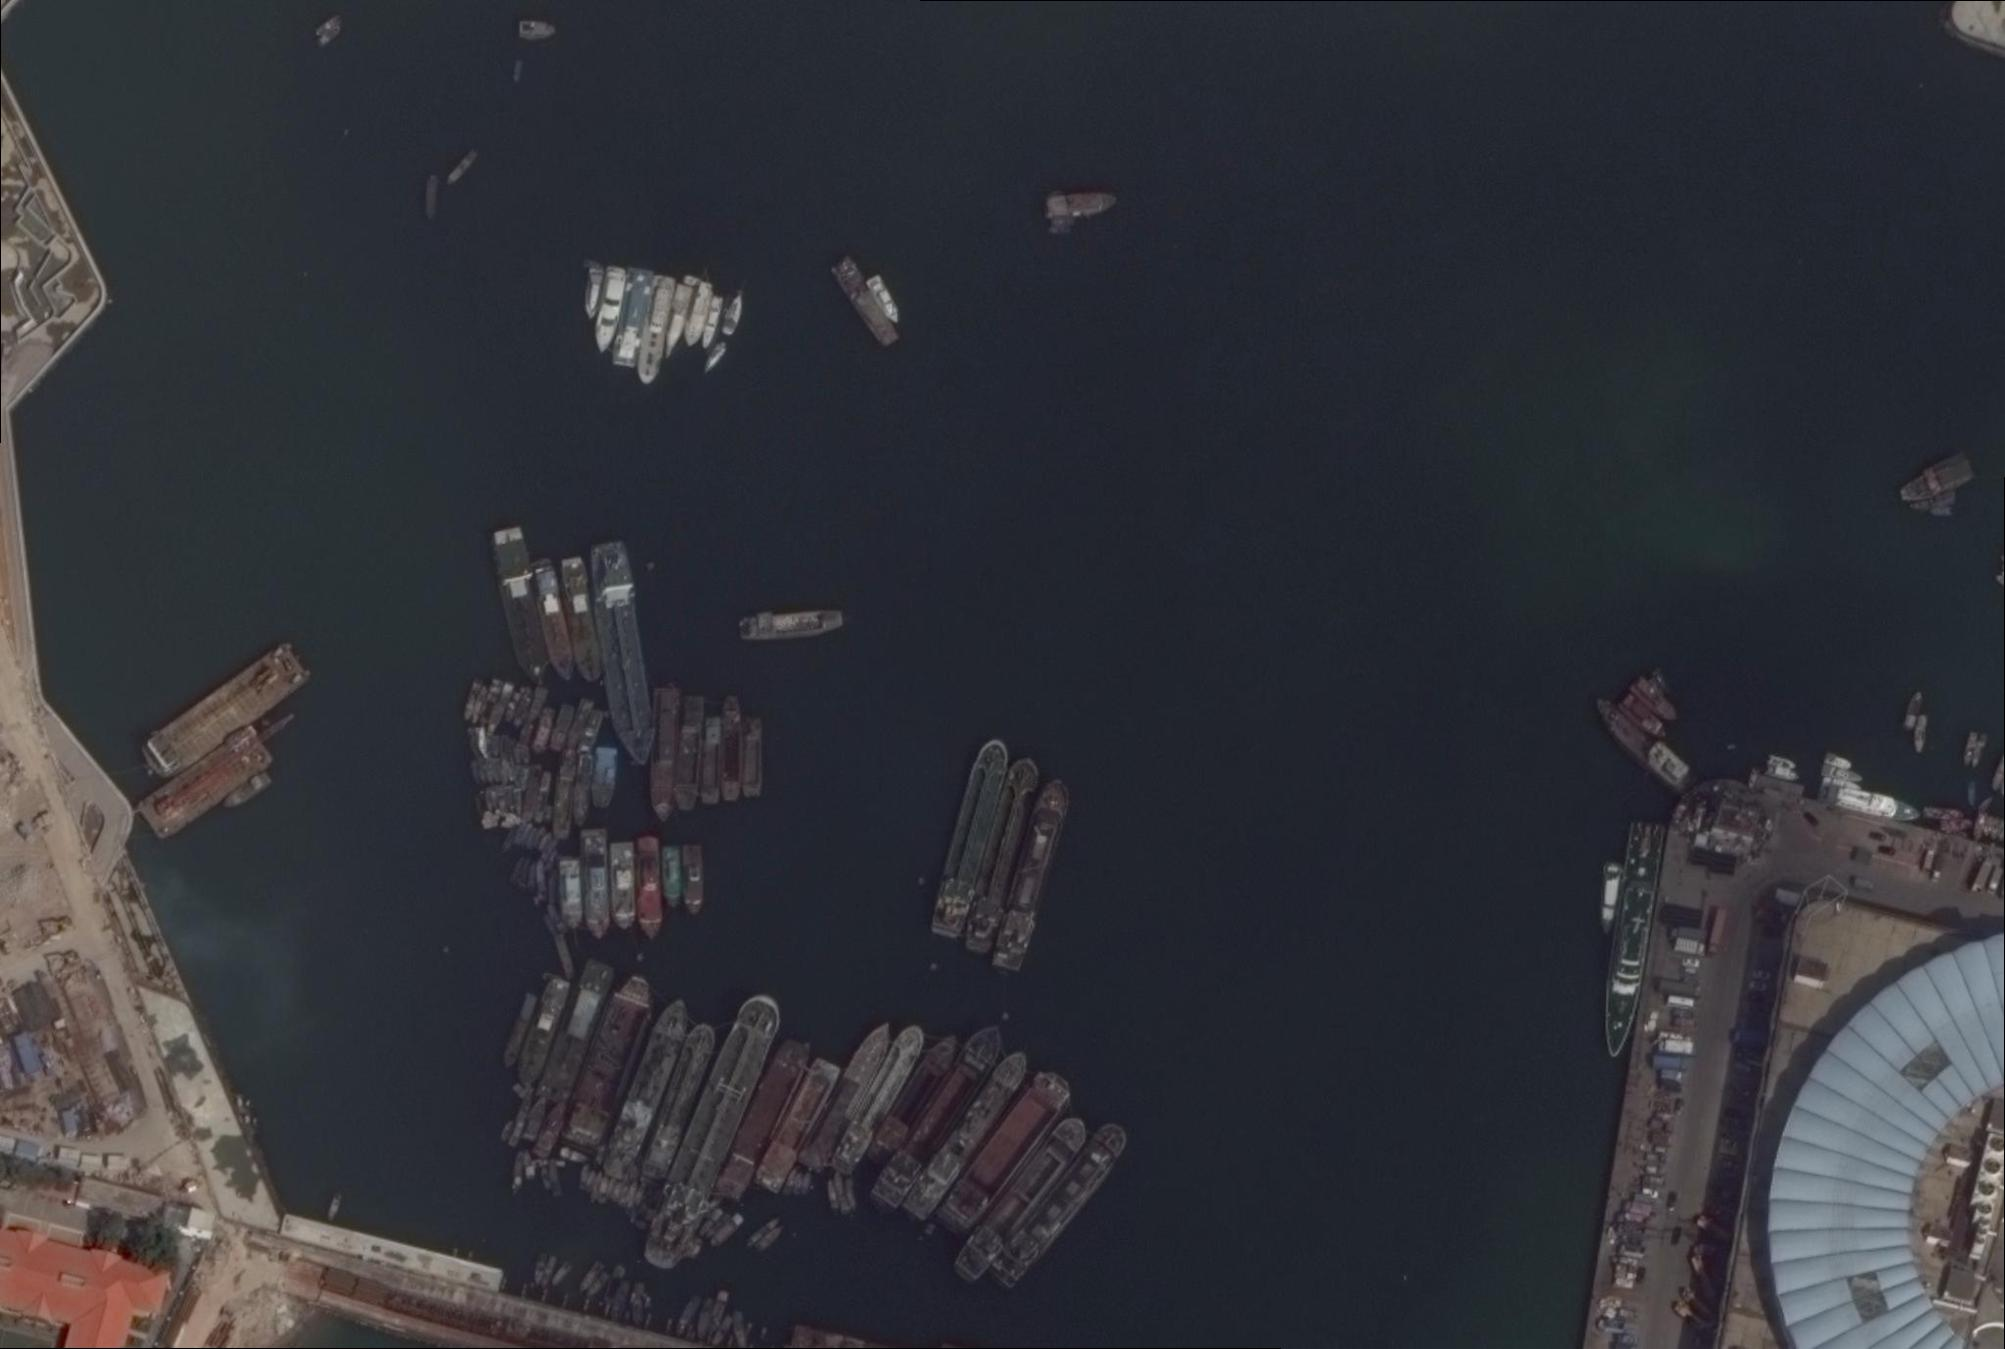ship: (638, 994, 786, 1274), (869, 1022, 1010, 1210), (930, 1064, 1078, 1244), (986, 1120, 1133, 1293), (948, 1110, 1094, 1284), (140, 641, 312, 781), (902, 1046, 1036, 1224), (557, 971, 662, 1159), (599, 995, 695, 1183), (987, 774, 1076, 973), (1596, 821, 1668, 1063), (929, 738, 1015, 939), (960, 754, 1045, 956), (586, 541, 659, 768), (713, 1037, 814, 1203), (796, 1016, 902, 1174), (829, 1021, 933, 1176), (137, 724, 274, 842), (863, 1030, 963, 1168), (638, 1021, 720, 1180), (534, 958, 619, 1104), (753, 1057, 841, 1195), (486, 524, 552, 687), (1587, 691, 1692, 790), (829, 257, 902, 351), (513, 976, 572, 1089), (555, 556, 605, 687), (531, 559, 577, 684), (634, 274, 677, 387), (1817, 781, 1924, 827), (611, 266, 655, 370), (649, 688, 680, 824), (1895, 455, 1976, 507), (739, 608, 844, 644), (673, 696, 704, 812), (589, 266, 628, 357), (580, 830, 610, 942), (501, 994, 540, 1070), (1629, 674, 1681, 727), (1620, 693, 1672, 745), (637, 837, 662, 939), (662, 285, 695, 361), (610, 843, 637, 933), (552, 750, 580, 840), (530, 1101, 570, 1159), (721, 696, 744, 801), (1048, 188, 1118, 221), (221, 771, 274, 815), (683, 282, 717, 349), (698, 717, 724, 804), (867, 274, 906, 325), (518, 687, 549, 745), (1597, 864, 1623, 936), (741, 717, 763, 796), (558, 857, 583, 930), (592, 748, 619, 808), (572, 754, 595, 827), (485, 684, 515, 738), (564, 699, 595, 750), (683, 845, 704, 917), (521, 1095, 551, 1143), (548, 705, 577, 753), (709, 1213, 747, 1250), (700, 297, 726, 349), (1912, 489, 1958, 518), (507, 1096, 533, 1147), (661, 845, 680, 909), (530, 708, 557, 754), (578, 709, 605, 754), (446, 151, 479, 187), (479, 679, 504, 726), (581, 268, 604, 321), (721, 294, 748, 337), (522, 768, 543, 824), (674, 1295, 703, 1335), (554, 933, 577, 982), (745, 1218, 780, 1248), (510, 690, 536, 730), (610, 1281, 634, 1323), (533, 772, 552, 824), (1901, 691, 1925, 732), (707, 1290, 730, 1332), (461, 681, 483, 723), (577, 1262, 605, 1293), (701, 342, 730, 373), (1821, 763, 1864, 784), (604, 1265, 626, 1302), (503, 687, 525, 724), (470, 687, 491, 726), (695, 1298, 715, 1338), (756, 1226, 784, 1253), (519, 21, 557, 41), (704, 1213, 732, 1241), (1766, 763, 1800, 784), (698, 1207, 723, 1238), (834, 1171, 850, 1213), (1961, 732, 1979, 768), (318, 24, 345, 48), (712, 1316, 732, 1347), (1823, 775, 1864, 790), (424, 178, 440, 218), (315, 15, 342, 38), (549, 1263, 572, 1289), (587, 1272, 610, 1298), (1970, 735, 1987, 769), (560, 1147, 592, 1165), (1824, 751, 1854, 769), (540, 1256, 557, 1287), (733, 1311, 747, 1349), (1915, 717, 1928, 754), (1767, 754, 1797, 771), (1924, 807, 1964, 819), (589, 1173, 604, 1204), (533, 1253, 548, 1284), (327, 1194, 342, 1223), (634, 1284, 644, 1325), (549, 1162, 561, 1197), (625, 1180, 640, 1207), (784, 1168, 799, 1195), (826, 1180, 838, 1210), (689, 1238, 704, 1262), (522, 1150, 534, 1179), (598, 1176, 610, 1204), (500, 1120, 515, 1143), (632, 1183, 646, 1207), (611, 1182, 625, 1203), (515, 1153, 522, 1189), (580, 1165, 590, 1189), (586, 1171, 598, 1192), (793, 1171, 804, 1195), (801, 1171, 811, 1195), (540, 1168, 551, 1189), (543, 805, 554, 827), (619, 1186, 629, 1206), (513, 62, 522, 81)
